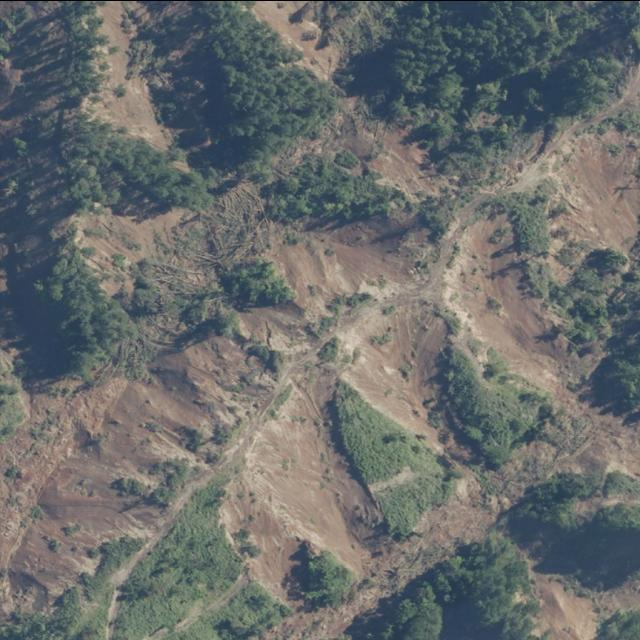landslide: (1, 214, 639, 640), (443, 78, 640, 280), (81, 0, 171, 149), (73, 206, 189, 294), (251, 0, 346, 80)
